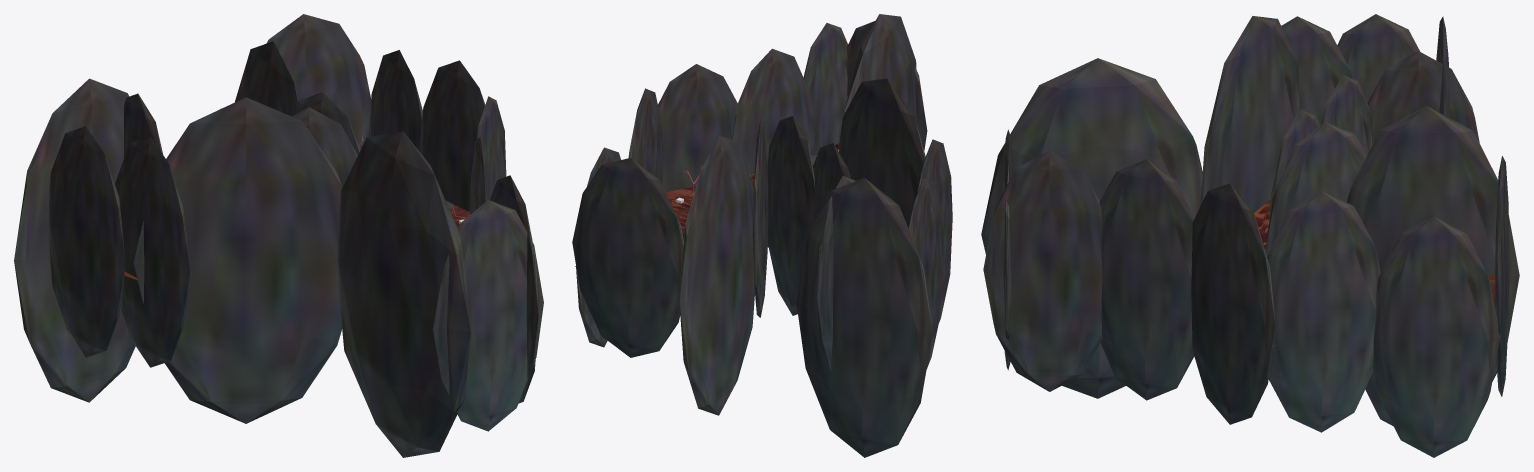
Rendered from fse--graham.gltf.
3 renders of one model, left to right at view 1: azimuth 30°, elevation 25°; view 2: azimuth 150°, elevation 25°; view 3: azimuth 270°, elevation 25°, orthographic. The views are drawn at different scales.
Parts seen in each view (by area): view 1: Icosphere.006, Icosphere.007, Icosphere.013, Icosphere.011, Icosphere.004, Icosphere.016, Icosphere, Icosphere.009, Icosphere.005, Icosphere.012, Icosphere.010, Icosphere.001 (+4 smaller); view 2: Icosphere.013, Icosphere, Icosphere.012, Icosphere.006, Icosphere.001, Icosphere.008, Icosphere.003, Icosphere.010, Icosphere.007, Icosphere.004, Icosphere.002, Icosphere.015 (+6 smaller); view 3: Icosphere.005, Icosphere.010, Icosphere.009, Icosphere.003, Icosphere.007, Icosphere.012, Icosphere.008, Icosphere.006, Icosphere.002, Icosphere.015, Icosphere.016, Icosphere.004 (+5 smaller).
Part boxes in pixels (x1,y1,x2,y2): Icosphere.006: [133, 97, 342, 423]; Icosphere.007: [337, 131, 470, 457]; Icosphere.013: [14, 78, 135, 402]; Icosphere.011: [432, 200, 543, 431]; Icosphere.004: [49, 126, 125, 357]; Icosphere.016: [115, 136, 189, 367]; Icosphere: [266, 14, 371, 145]; Icosphere.009: [419, 60, 485, 211]; Icosphere.005: [369, 50, 422, 150]; Icosphere.012: [234, 41, 298, 115]; Icosphere.010: [490, 175, 538, 403]; Icosphere.001: [292, 107, 357, 187]; Icosphere.013: [796, 178, 932, 457]; Icosphere: [572, 158, 688, 357]; Icosphere.012: [679, 135, 754, 415]; Icosphere.006: [838, 78, 925, 228]; Icosphere.001: [767, 116, 815, 315]; Icosphere.008: [658, 64, 749, 191]; Icosphere.003: [732, 48, 815, 247]; Icosphere.010: [803, 23, 847, 156]; Icosphere.007: [844, 14, 916, 122]; Icosphere.004: [908, 178, 943, 368]; Icosphere.002: [752, 118, 768, 317]; Icosphere.015: [817, 176, 854, 370]; Icosphere.005: [1373, 216, 1500, 457]; Icosphere.010: [983, 150, 1102, 391]; Icosphere.009: [1267, 191, 1380, 432]; Icosphere.003: [1099, 159, 1194, 400]; Icosphere.007: [981, 58, 1202, 398]; Icosphere.012: [1347, 106, 1519, 426]; Icosphere.008: [1191, 183, 1275, 424]; Icosphere.006: [1200, 16, 1299, 212]; Icosphere.002: [1265, 122, 1366, 256]; Icosphere.015: [1367, 51, 1479, 142]; Icosphere.016: [1281, 16, 1352, 125]; Icosphere.004: [1337, 14, 1420, 102].
Size of the model in its own units: 143 by 117 by 154.
4 materials, 1 textured.
